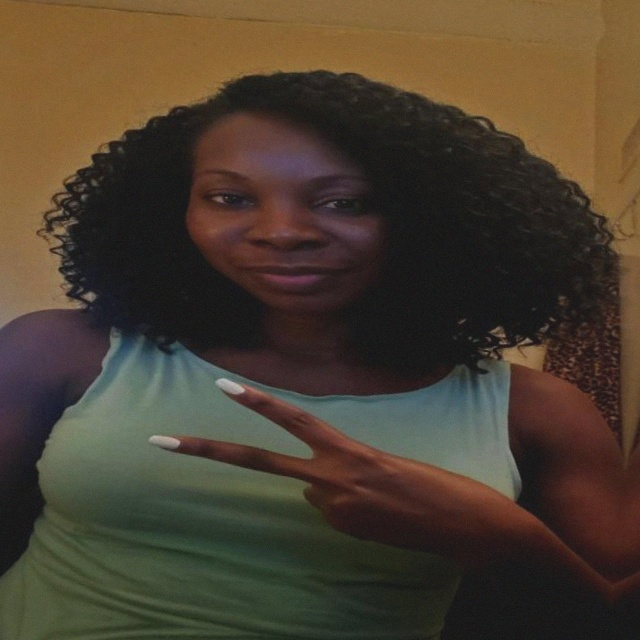Scissors: (140, 368, 512, 573)
